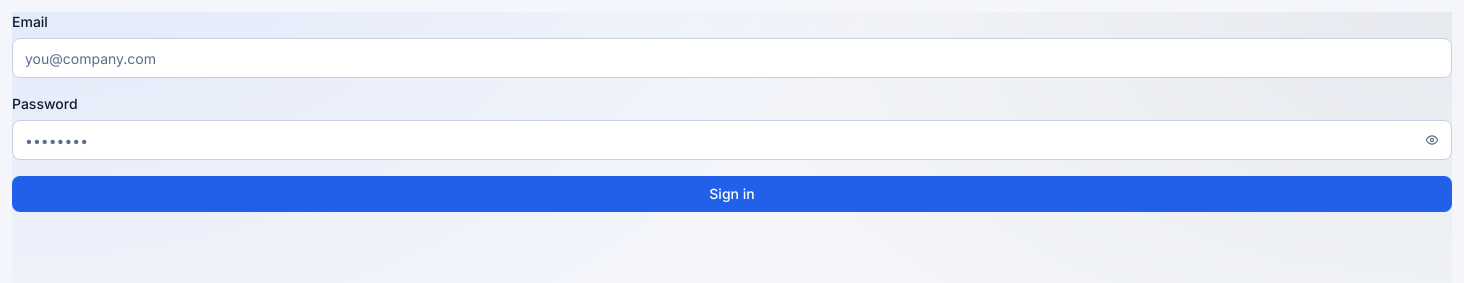
Test case: LoginForm › shows a login-specific unauthorized message
This screenshot has width=1464, height=283.
Type "owner@example.com" into the field labelled "Email".
click(732, 58); type("owner@example.com")  # box [12, 38, 1452, 78]
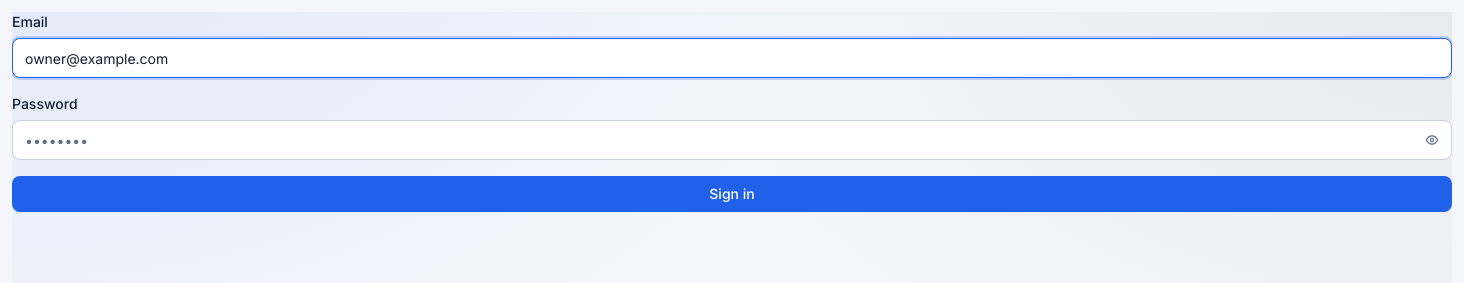
Type "password1" into the password field labelled "Password".
click(732, 140); type("password1")  # box [12, 120, 1452, 160]
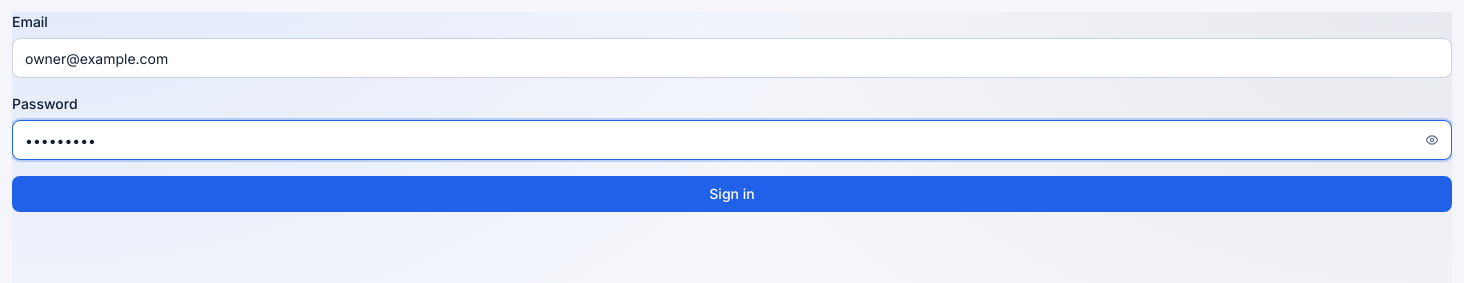
Click the button "Sign in".
click(732, 194)  # box [12, 176, 1452, 212]
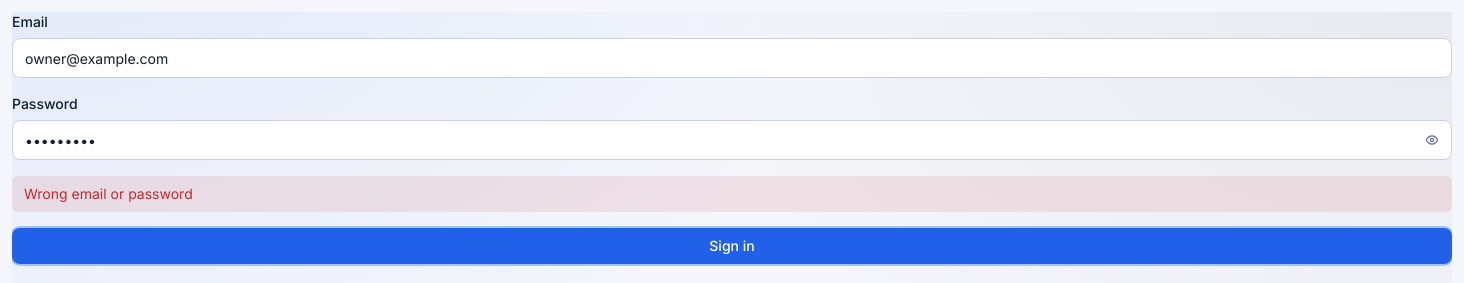
Check: the message reads "Wrong email or password", box [24, 185, 193, 202]
